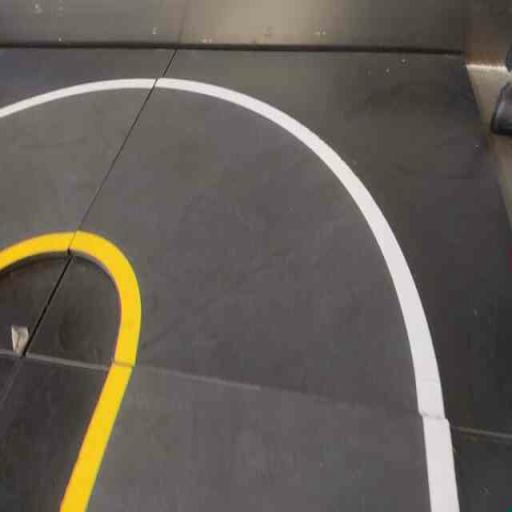left: (27, 69, 463, 421)
